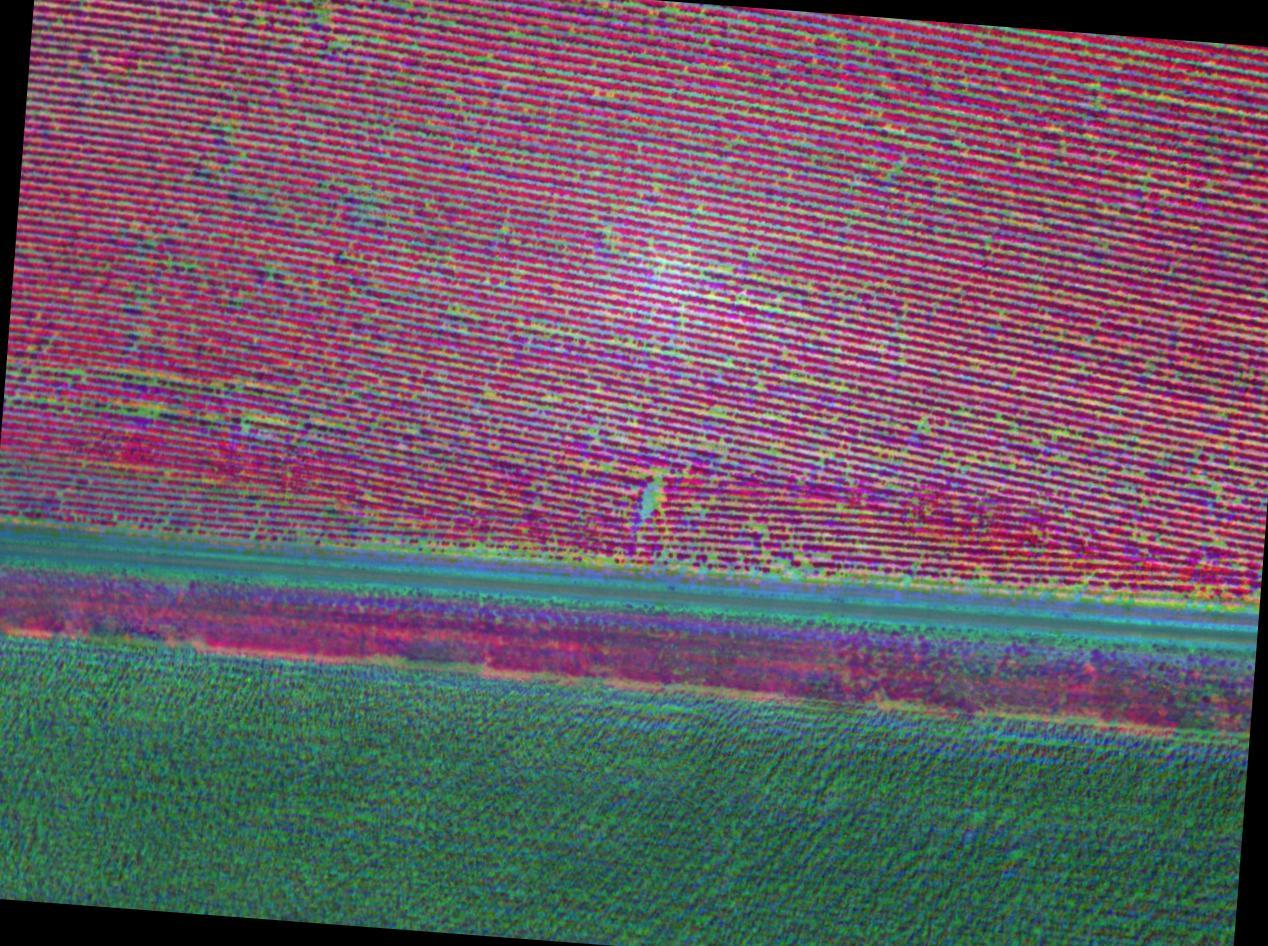dc: (646, 503, 653, 511), (649, 486, 656, 493), (725, 266, 731, 272), (895, 170, 901, 175), (1157, 96, 1163, 101), (1093, 85, 1099, 89), (628, 343, 632, 348), (421, 540, 426, 544), (456, 305, 460, 309), (142, 410, 146, 414), (921, 421, 925, 425), (244, 425, 248, 429)
